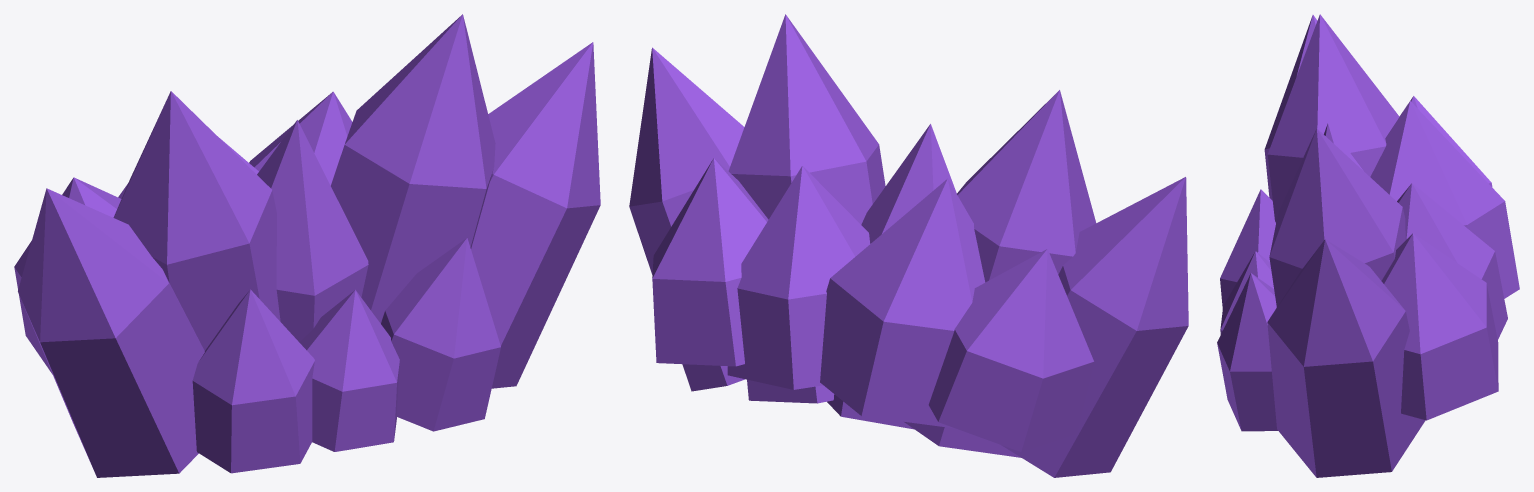
The model's file is Geode_Cluster_F.fbx.
The picture shows the model from 3 angles, left to right: view 1: azimuth 30°, elevation 25°; view 2: azimuth 150°, elevation 25°; view 3: azimuth 270°, elevation 25°; orthographic projection. The views are drawn at different scales.
Parts seen in each view (by area): view 1: Crystal1, Crystal2, Crystal3; view 2: Crystal2, Crystal1, Crystal3; view 3: Crystal2, Crystal1, Crystal3.
Boxes of the visible parts, x1,y1,x2,y2 form: Crystal1: (18, 14, 495, 477); Crystal2: (14, 42, 600, 431); Crystal3: (118, 120, 368, 473); Crystal2: (629, 47, 1095, 457); Crystal1: (727, 14, 1188, 477); Crystal3: (820, 124, 985, 429); Crystal2: (1217, 14, 1498, 477); Crystal1: (1220, 15, 1507, 339); Crystal3: (1220, 101, 1519, 308).
Size of the model in its own units: 1.45 by 0.9594 by 0.8011.
